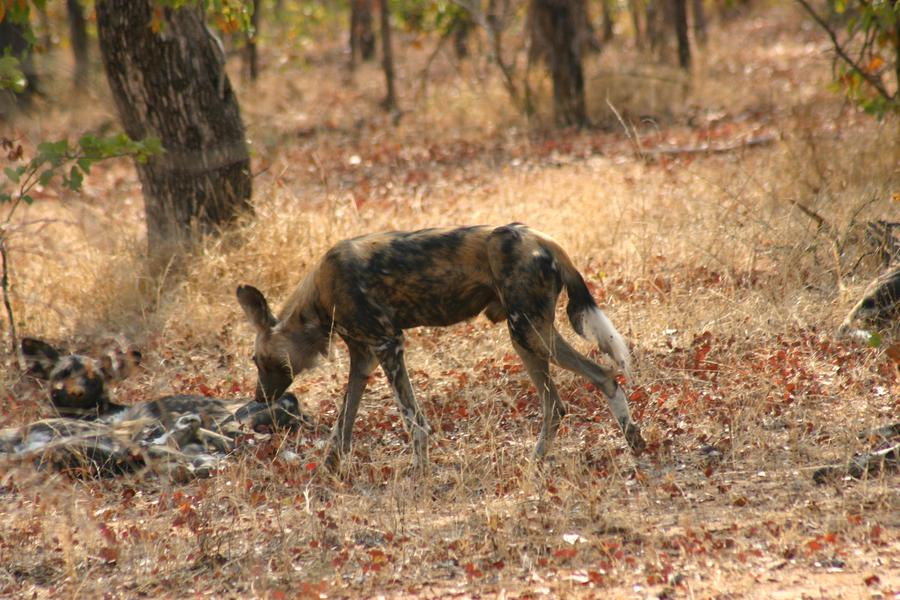wilddog: (259, 221, 563, 389), (14, 404, 219, 492), (18, 332, 122, 404)
